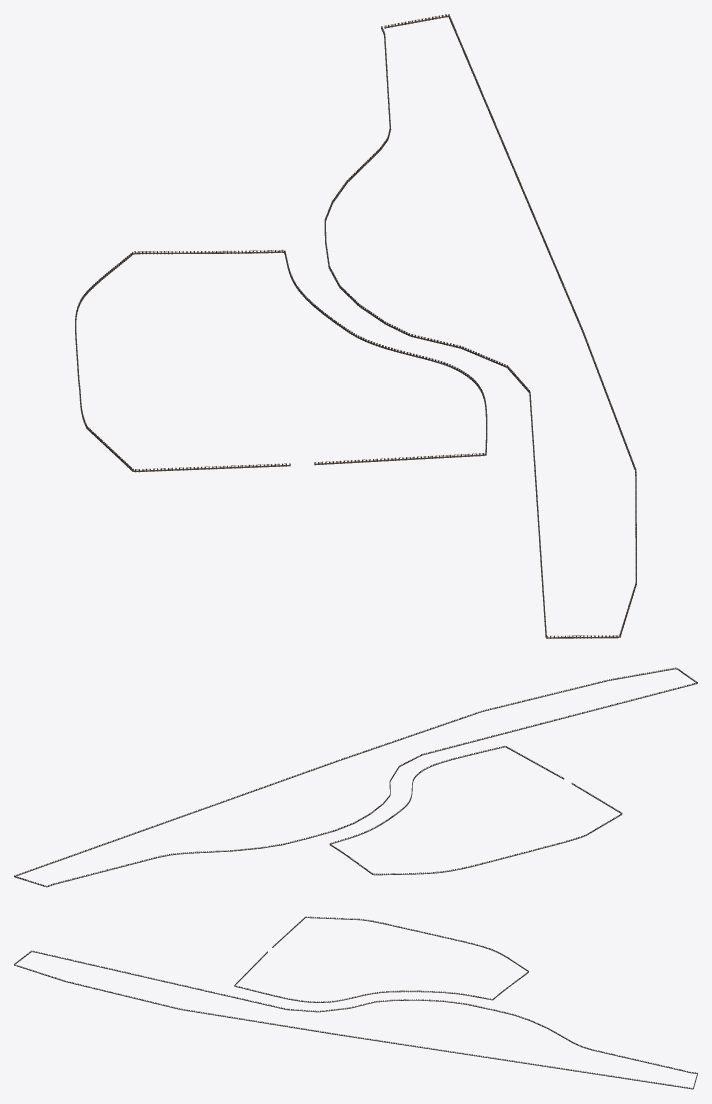
File: CemeteryWalls.fbx
3 views of the same model, one above another, from view 1: azimuth 30°, elevation 25°; view 2: azimuth 150°, elevation 25°; view 3: azimuth 270°, elevation 25° (orthographic). The views are drawn at different scales.
Bounding box in the file's own units: 48978 × 192 × 82376.
